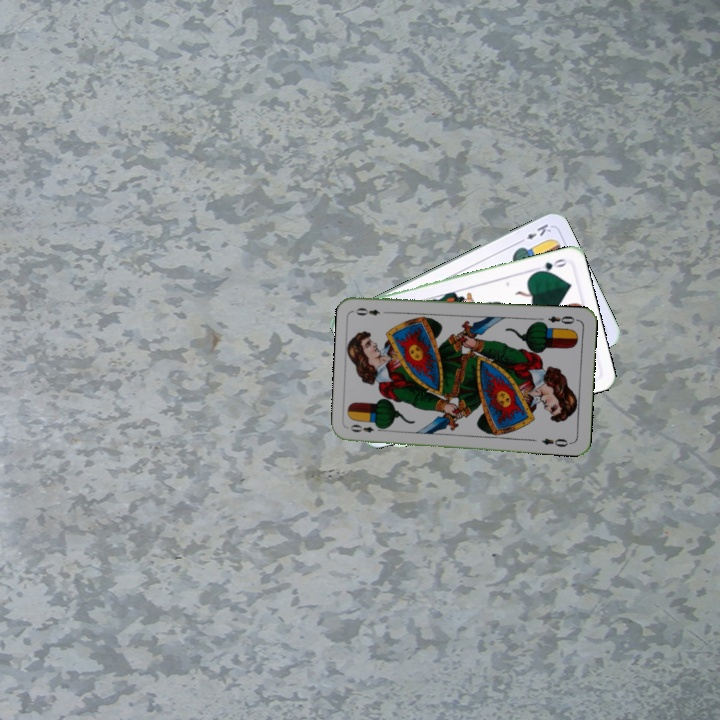EK: (514, 220, 554, 246)
EO: (346, 421, 386, 435), (544, 312, 580, 327)
GO: (530, 255, 570, 276)
